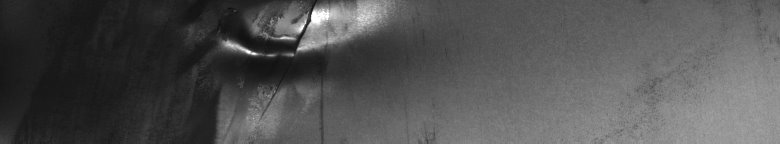ke: (189, 4, 367, 136)
